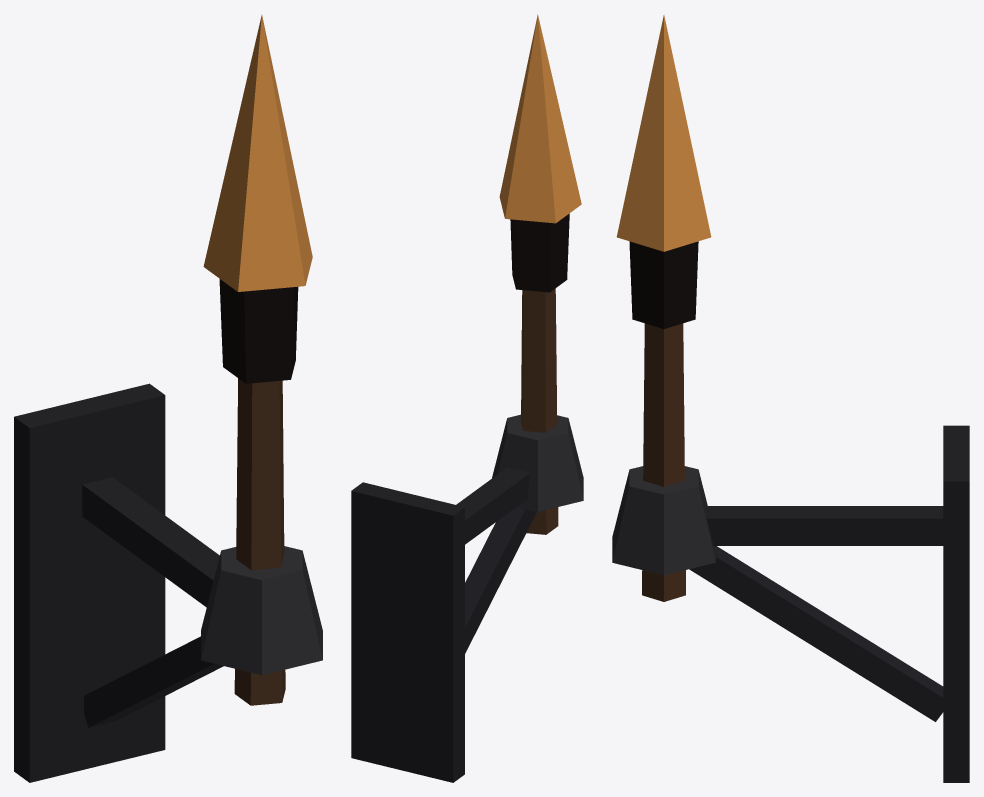
File: wall-sconce.glb
The picture shows the model from 3 angles, left to right: view 1: azimuth 30°, elevation 25°; view 2: azimuth 150°, elevation 25°; view 3: azimuth 270°, elevation 25°; orthographic projection. The views are drawn at different scales.
Visible parts, largest first — view 1: wall-sconce; view 2: wall-sconce; view 3: wall-sconce.
Boxes of the visible parts, x1,y1,x2,y2 form: wall-sconce: (14,14,322,782); wall-sconce: (351,14,583,782); wall-sconce: (612,15,969,782).
Size of the model in its own units: 0.2 by 1.23 by 0.5379.
